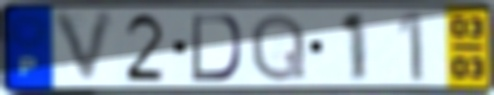1: (395, 9, 426, 85), (338, 11, 370, 83)
2: (122, 12, 169, 84)
D: (188, 12, 245, 84)
Q: (248, 10, 309, 84)
V: (49, 8, 120, 88)
